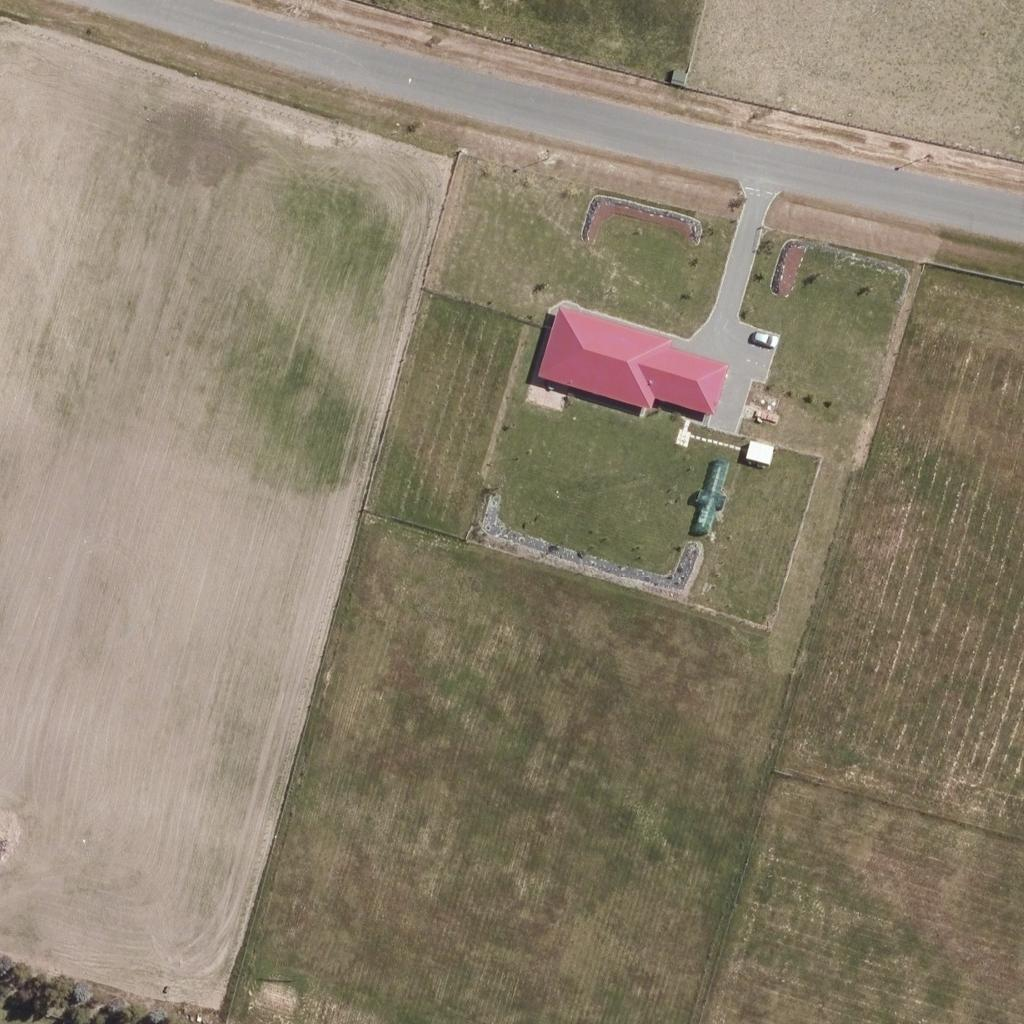car: (746, 320, 780, 354)
